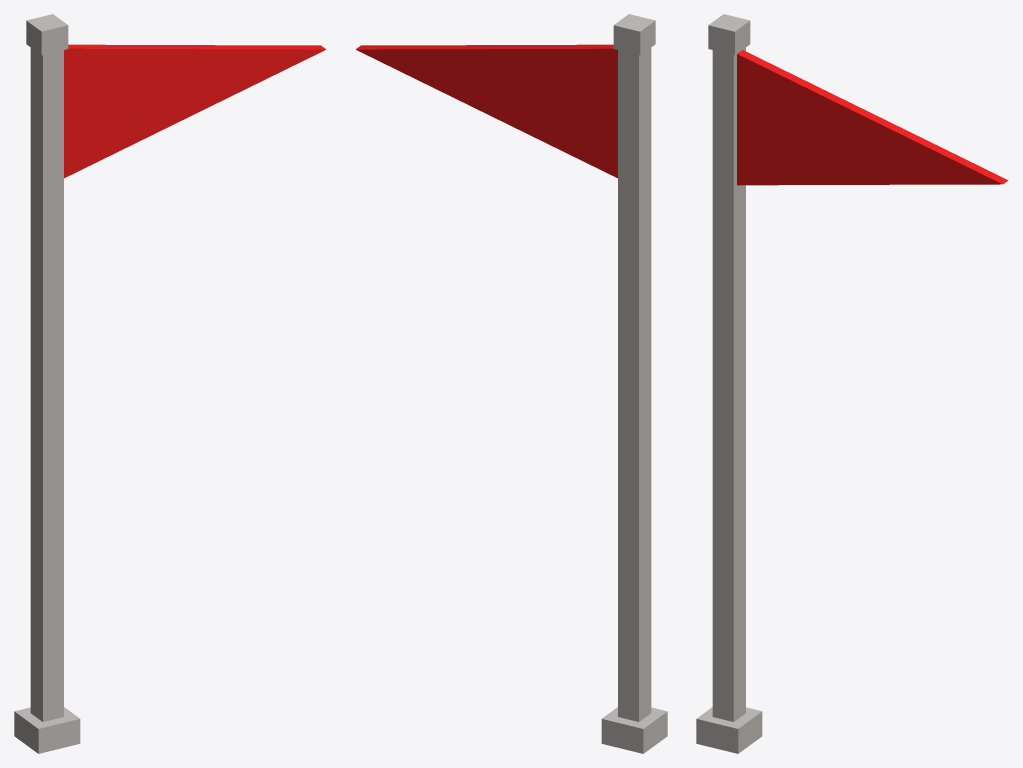
File: SM_Goal_Check_Point_01.fbx
3 views of the same model, side by side, from view 1: azimuth 30°, elevation 25°; view 2: azimuth 150°, elevation 25°; view 3: azimuth 330°, elevation 25° (orthographic).
Visible parts, largest first — view 1: pCube484; view 2: pCube484; view 3: pCube484.
Boxes of the visible parts, x1,y1,x2,y2 form: pCube484: (14, 14, 326, 753); pCube484: (355, 14, 667, 753); pCube484: (696, 14, 1008, 753).
Size of the model in its own units: 113 by 259 by 15.82.
1 material, 1 textured.
